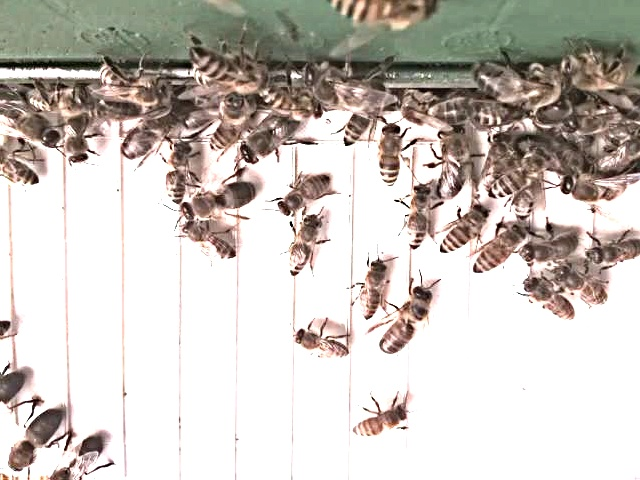Drone: (3, 406, 66, 476), (376, 285, 435, 359), (118, 105, 186, 164), (236, 111, 303, 169), (175, 179, 257, 225), (432, 125, 472, 204), (553, 173, 631, 207)
Worker: (482, 150, 549, 202), (467, 226, 522, 279), (272, 172, 332, 220), (434, 205, 487, 258), (518, 279, 576, 325), (552, 268, 610, 312), (285, 216, 323, 281), (348, 403, 410, 442), (518, 231, 582, 268), (290, 328, 354, 362), (402, 184, 432, 256), (374, 122, 404, 191), (581, 239, 640, 271), (356, 260, 385, 324)
